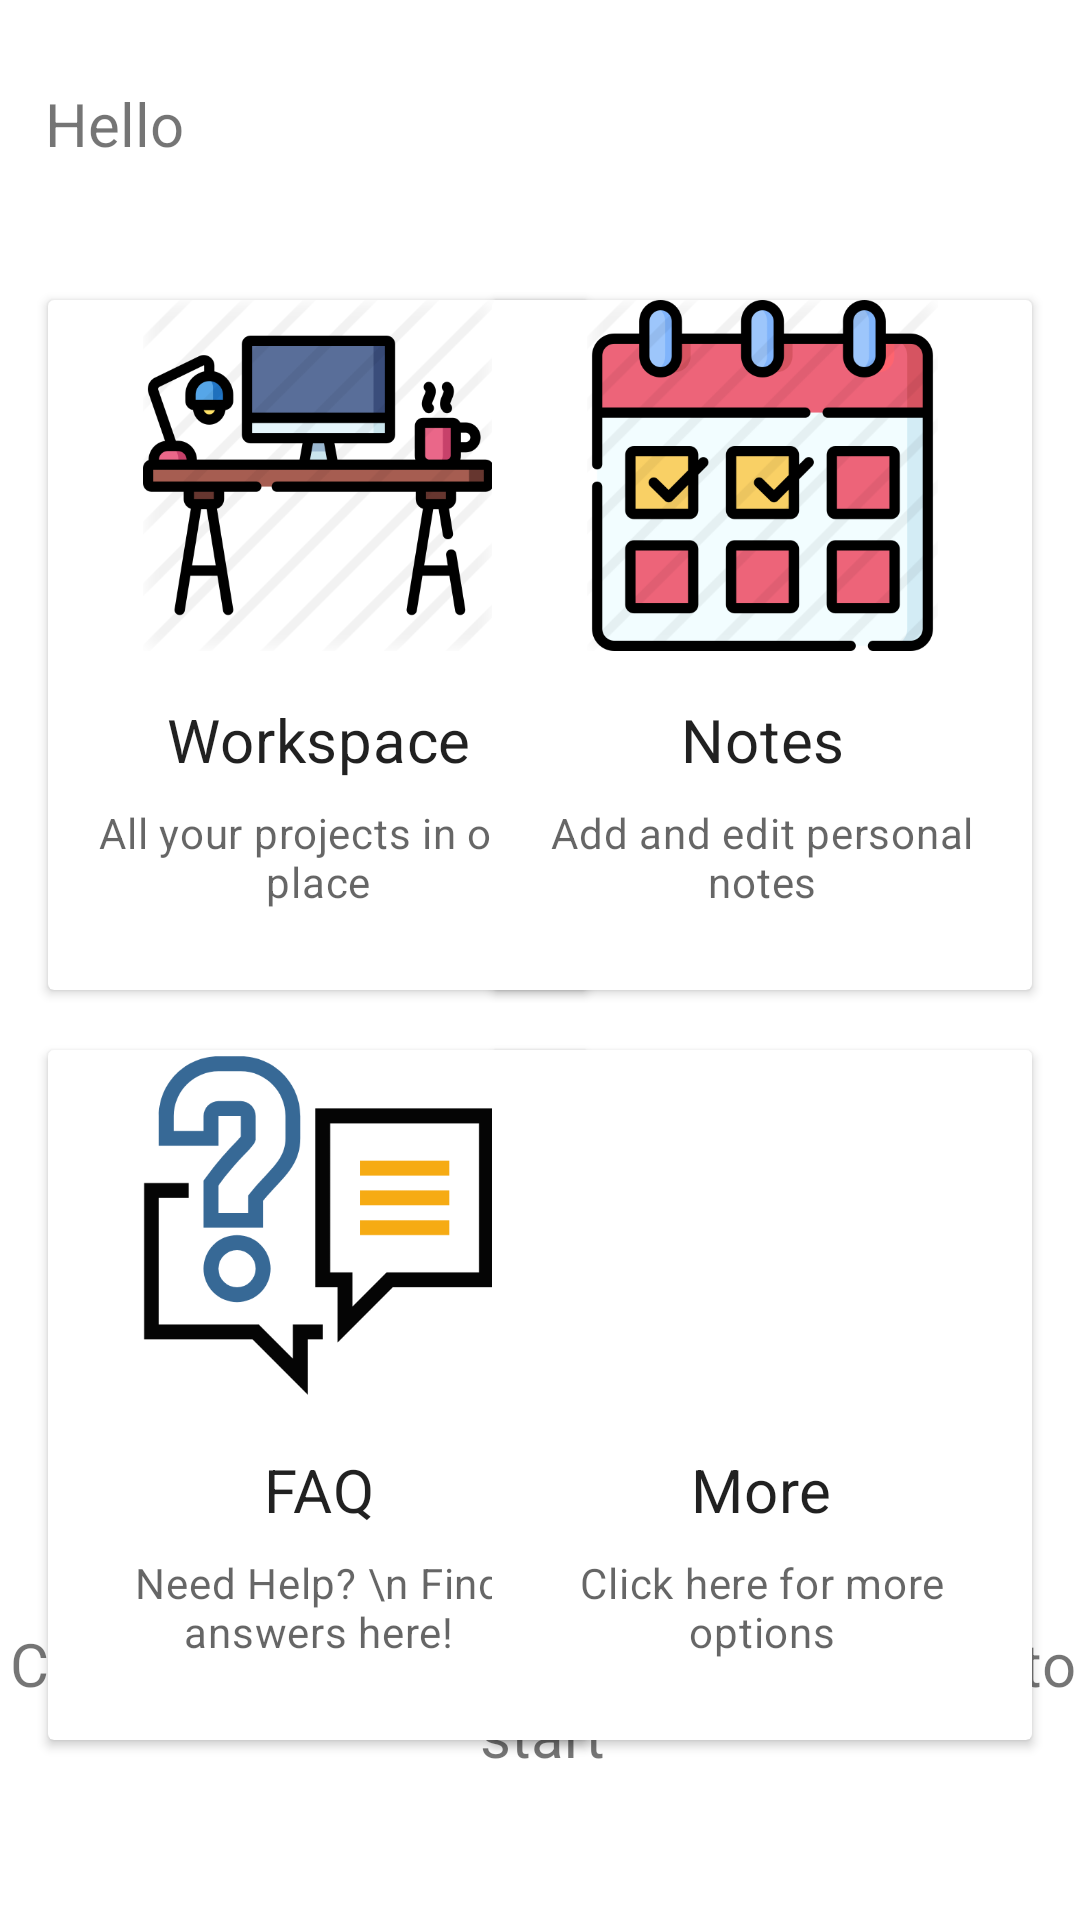

Point at icon controls on the screen. Image size 1080×1920, points as point (x, y).
tasks: point (762, 475)
